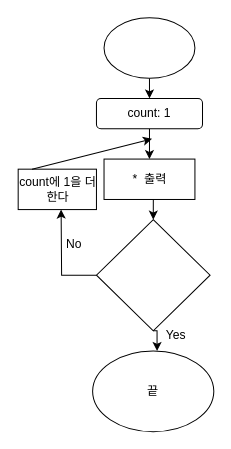
This 231x449 diagram has some shape labels left out. Each missing label, with the centre of its shape:
count가 8인가?: the point at 152,275
시작: the point at 149,47
